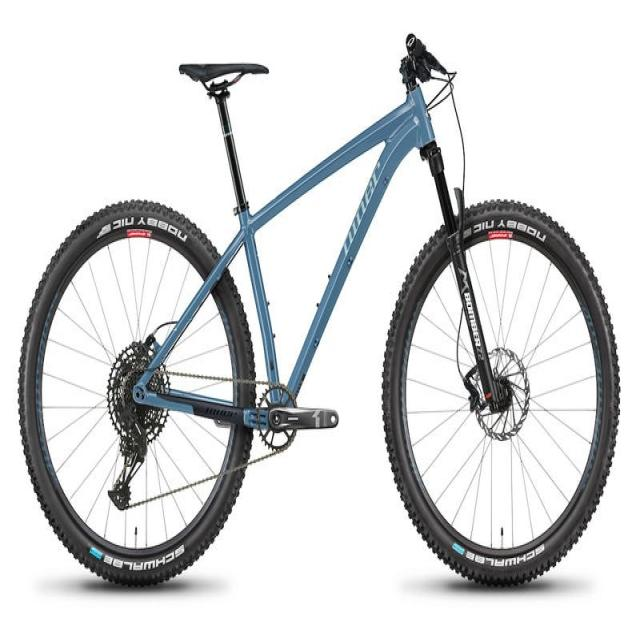mountain-bike: (15, 26, 624, 594)
